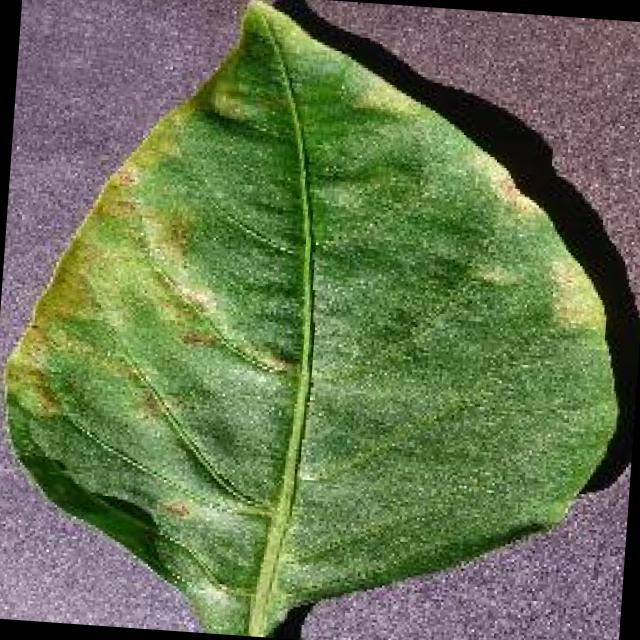Chilli_Bacterial_Spot: (0, 0, 640, 640), (119, 192, 308, 378), (188, 63, 270, 138), (204, 82, 248, 125), (153, 491, 192, 521)
